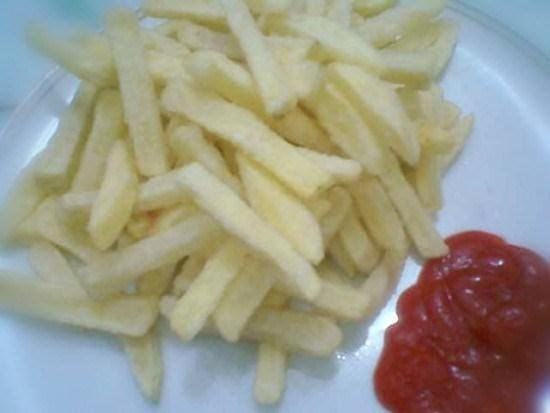background: (0, 0, 473, 267)
